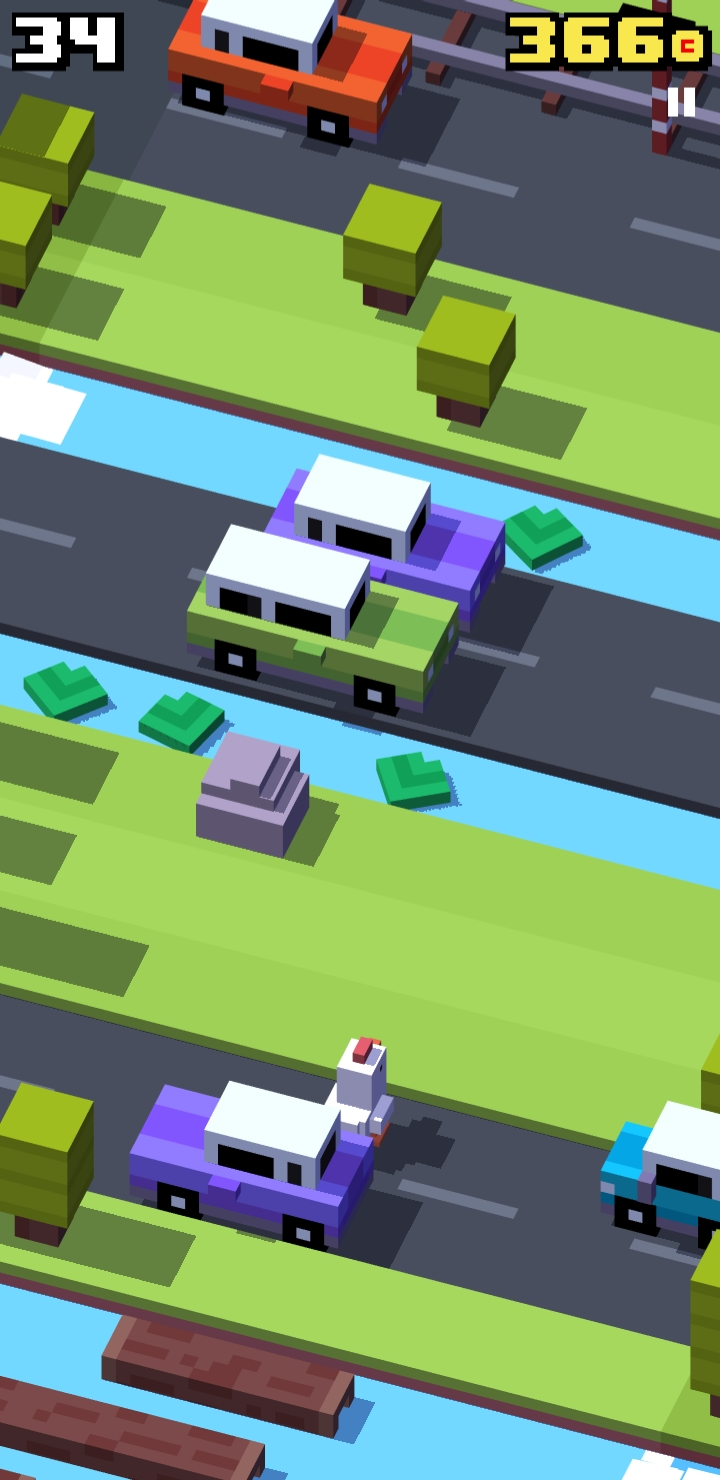car: (189, 503, 463, 732), (138, 1056, 370, 1258), (270, 450, 503, 623), (165, 1, 418, 138), (596, 1078, 720, 1258)
duck: (319, 1032, 396, 1167)
lilypad: (372, 739, 459, 818), (23, 650, 110, 729), (143, 683, 232, 758), (501, 510, 599, 574)
log: (107, 1310, 358, 1445), (3, 1372, 265, 1480)
rock: (198, 723, 318, 865)
tree: (1, 1076, 99, 1249), (339, 174, 445, 319), (416, 289, 518, 427), (1, 96, 103, 207), (1, 185, 76, 301), (683, 1230, 720, 1418)
